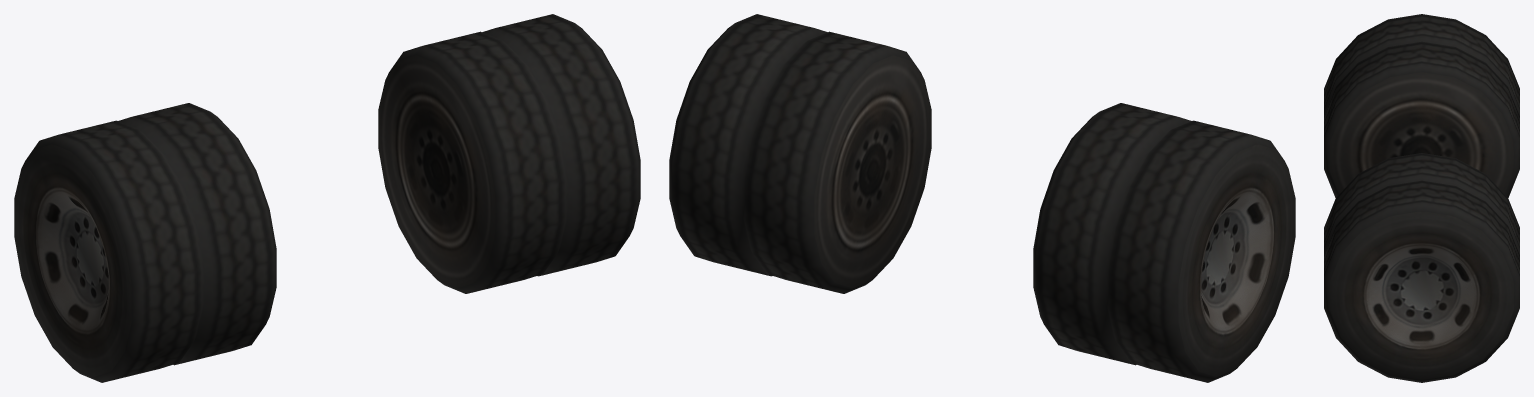
The model's file is vehicles_SemiTruck_Wheels_Back.fbx.
3 renders of one model, left to right at view 1: azimuth 30°, elevation 25°; view 2: azimuth 150°, elevation 25°; view 3: azimuth 270°, elevation 25°, orthographic. The views are drawn at different scales.
Visible parts, largest first — view 1: wheels; view 2: wheels; view 3: wheels.
Part boxes in pixels (x1,y1,x2,y2): wheels: (14,14,640,382); wheels: (669,14,1295,382); wheels: (1324,14,1519,382).
Bounding box in the file's own units: 1.89 × 0.8153 × 0.8029.
Materials: 1 (1 with a texture image).
